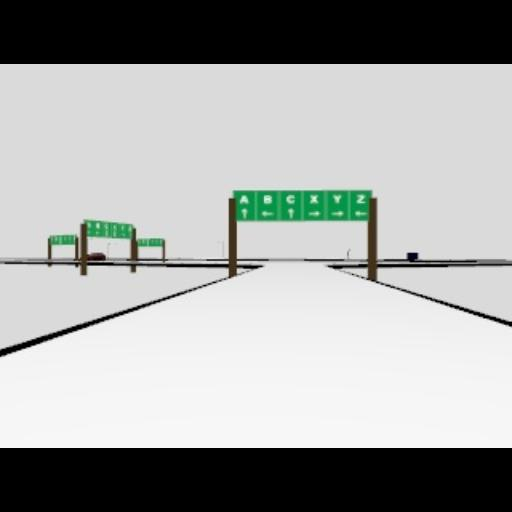A: (239, 194, 249, 204)
B: (262, 194, 272, 204), (111, 223, 117, 237), (94, 221, 100, 229)
C: (286, 194, 296, 204)
Left: (262, 211, 276, 217), (354, 210, 366, 216)
Right: (308, 211, 322, 217), (332, 211, 344, 217)
Straight: (288, 208, 294, 218), (242, 208, 248, 218)
X: (310, 194, 318, 204)
Y: (333, 194, 341, 204)
Z: (356, 195, 366, 203)
